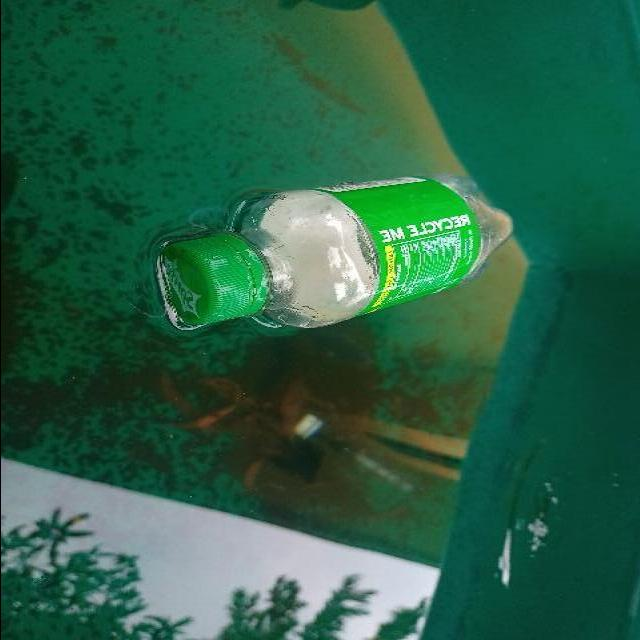Bottle: (141, 174, 512, 334)
